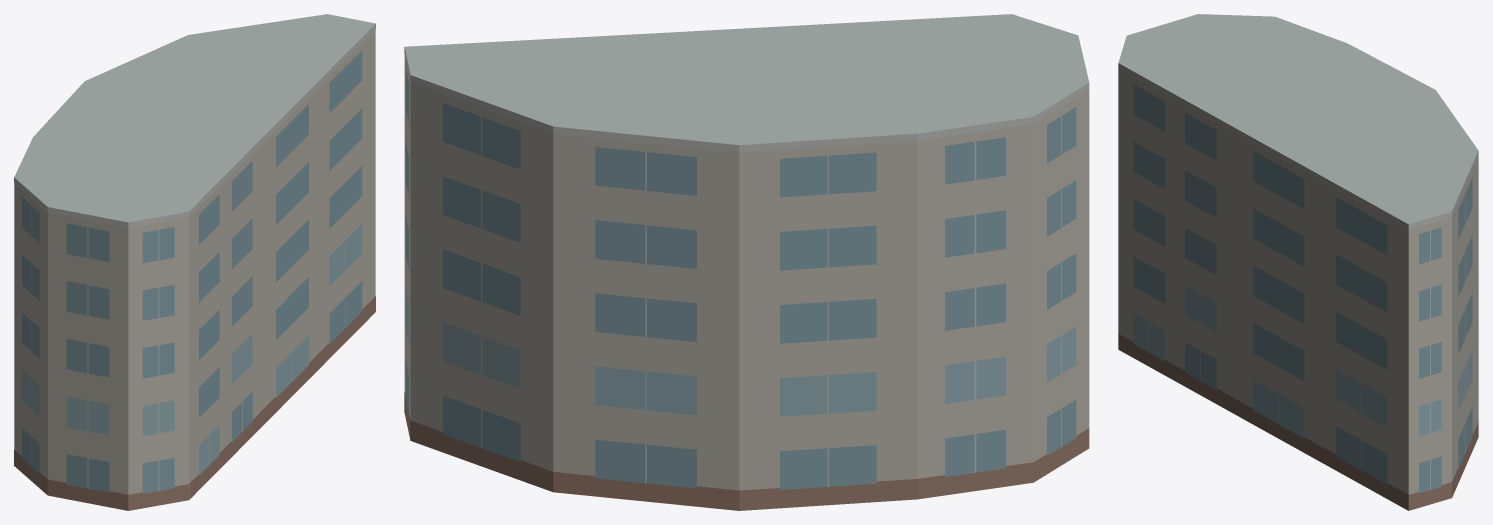
File: survey-upis-33006091.glb
3 views of the same model, side by side, from view 1: azimuth 30°, elevation 25°; view 2: azimuth 150°, elevation 25°; view 3: azimuth 270°, elevation 25° (orthographic). The views are drawn at different scales.
Parts seen in each view (by area): view 1: survey-upis-33006091.tmp; view 2: survey-upis-33006091.tmp; view 3: survey-upis-33006091.tmp.
Part boxes in pixels (x1,y1,x2,y2): survey-upis-33006091.tmp: (14,14,375,510); survey-upis-33006091.tmp: (404,14,1089,510); survey-upis-33006091.tmp: (1118,14,1478,510).
Bounding box in the file's own units: 19.69 × 12.5 × 14.25.
